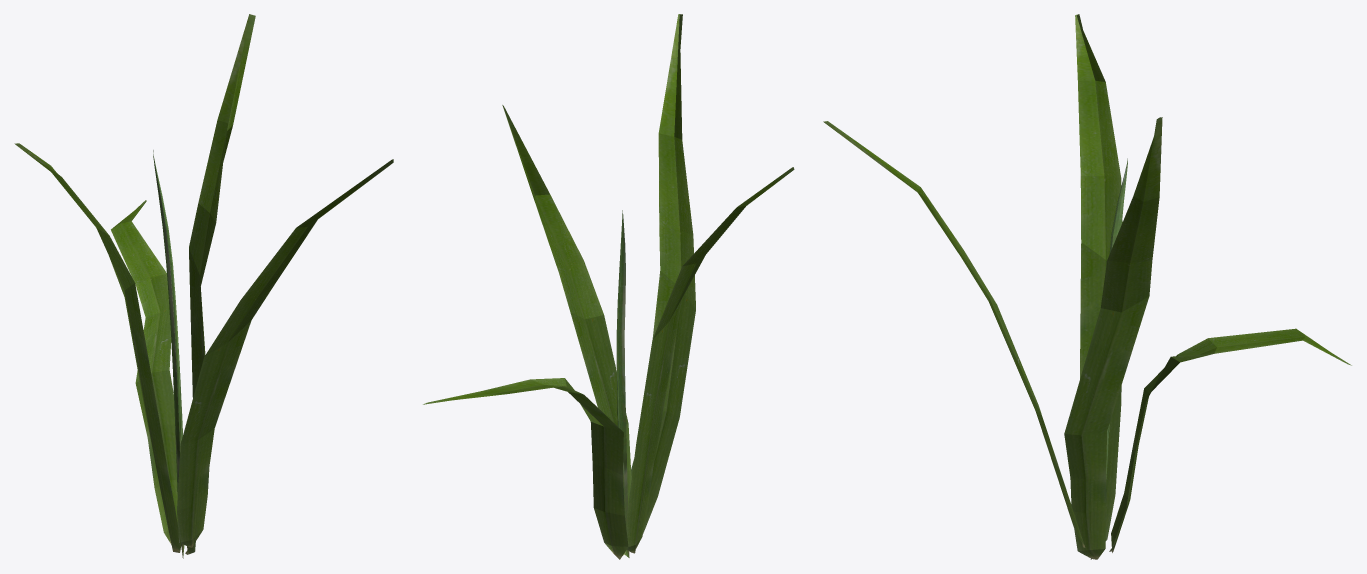
Rendered from rice_1.fbx.
3 views of the same model, side by side, from view 1: azimuth 30°, elevation 25°; view 2: azimuth 150°, elevation 25°; view 3: azimuth 270°, elevation 25° (orthographic). The views are drawn at different scales.
Visible parts, largest first — view 1: Leaf1.006, Leaf1.005, Leaf1.004, Leaf1.007, Plane.001; view 2: Leaf1.006, Leaf1.004, Leaf1.007, Leaf1.005, Plane.001; view 3: Leaf1.004, Leaf1.007, Leaf1.005, Leaf1.006.
Boxes of the visible parts, left/top/right/bottom form: Leaf1.006: left=177, top=159, right=393, bottom=547; Leaf1.005: left=111, top=200, right=177, bottom=544; Leaf1.004: left=185, top=14, right=255, bottom=554; Leaf1.007: left=14, top=143, right=181, bottom=552; Plane.001: left=153, top=150, right=184, bottom=558; Leaf1.006: left=631, top=14, right=695, bottom=535; Leaf1.004: left=502, top=105, right=631, bottom=555; Leaf1.007: left=626, top=167, right=794, bottom=553; Leaf1.005: left=423, top=378, right=628, bottom=559; Plane.001: left=616, top=210, right=629, bottom=557; Leaf1.004: left=1064, top=117, right=1162, bottom=559; Leaf1.007: left=1075, top=14, right=1122, bottom=540; Leaf1.005: left=1109, top=328, right=1351, bottom=552; Leaf1.006: left=823, top=121, right=1085, bottom=547.
Size of the model in its own units: 38.42 by 63.12 by 64.77.
Materials: 2 (2 with a texture image).
